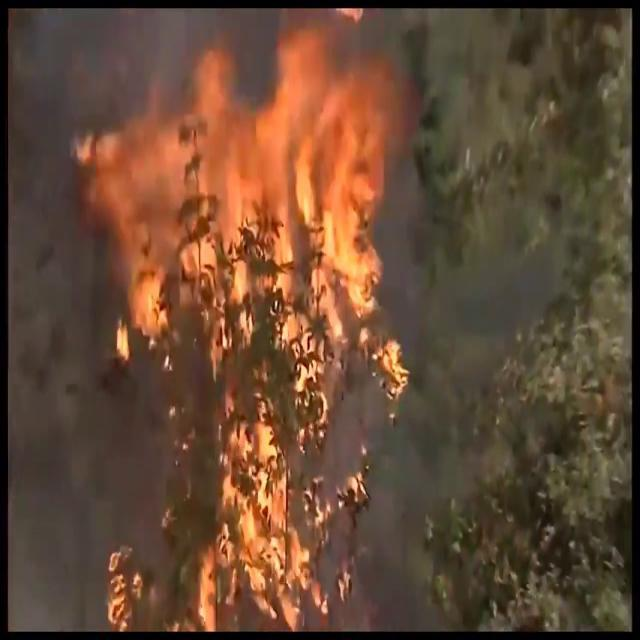Fire: (68, 19, 414, 366), (156, 371, 367, 625), (104, 521, 156, 628), (370, 320, 412, 406)
Smoke: (418, 195, 576, 412), (5, 347, 99, 637), (1, 11, 69, 340), (376, 434, 464, 632)
